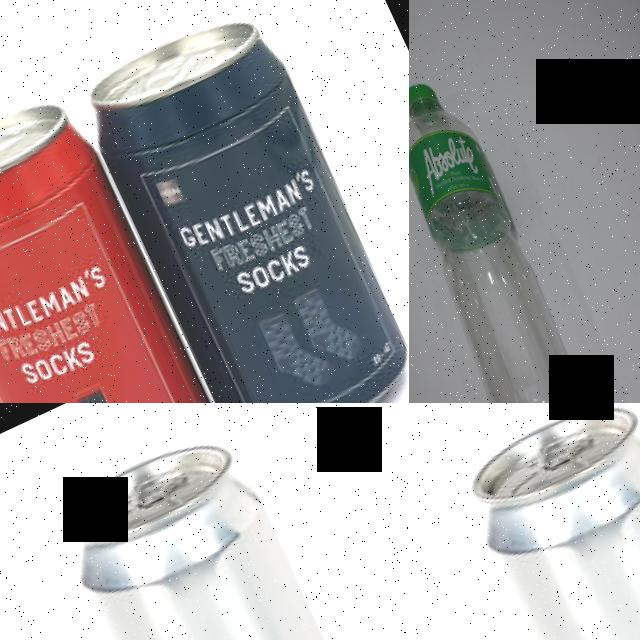bottle: (409, 68, 623, 403)
can: (67, 0, 409, 403), (40, 418, 409, 640), (0, 80, 246, 403), (446, 403, 640, 640)
